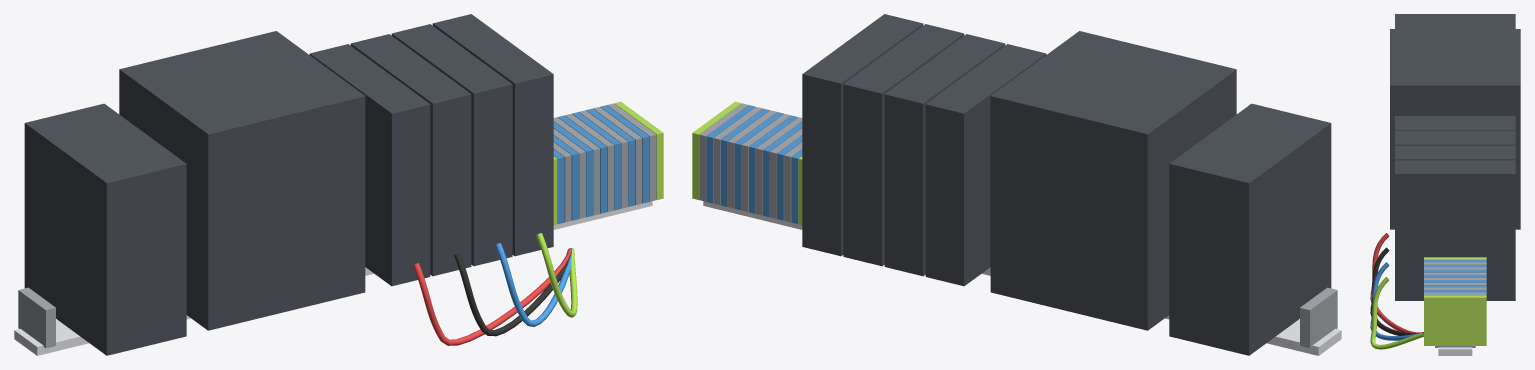
The model's file is plc_s71500f_hq.glb.
3 views of the same model, side by side, from view 1: azimuth 30°, elevation 25°; view 2: azimuth 150°, elevation 25°; view 3: azimuth 270°, elevation 25° (orthographic). The views are drawn at different scales.
Visible parts, largest first — view 1: CPU1518F_Processor_Body, PM1507_Power_Supply, F_DI_16_Input_Mod01, F_DI_16_Input_Mod02, F_DQ_8_Output_Mod02, F_DQ_8_Output_Mod01, DIN_End_Clamp_-0.26, DIN_Rail_Slotted_TH35, 24VDC_Power_Loop, 0V_GND_Power_Loop, DI16_Signal_Harness, PE_Earth_Ground_Braid (+15 smaller); view 2: CPU1518F_Processor_Body, PM1507_Power_Supply, F_DI_16_Input_Mod01, F_DI_16_Input_Mod02, F_DQ_8_Output_Mod02, F_DQ_8_Output_Mod01, DIN_End_Clamp_-0.26, DIN_Rail_Slotted_TH35, Phoenix_PT25_Block_14, Phoenix_PT25_Block_9, Phoenix_PT25_Block_10, Phoenix_PT25_Block_11 (+11 smaller); view 3: F_DQ_8_Output_Mod02, CPU1518F_Processor_Body, Phoenix_PT25_Block_16, F_DI_16_Input_Mod02, F_DQ_8_Output_Mod01, F_DI_16_Input_Mod01, PM1507_Power_Supply, PE_Earth_Ground_Braid, 24VDC_Power_Loop, 0V_GND_Power_Loop, DI16_Signal_Harness, DIN_Rail_Slotted_TH35 (+15 smaller).
Part boxes in pixels (box(x1,y1,x2,y2)): CPU1518F_Processor_Body: box(119, 31, 365, 330); PM1507_Power_Supply: box(24, 103, 186, 355); F_DI_16_Input_Mod01: box(309, 44, 430, 286); F_DI_16_Input_Mod02: box(350, 34, 471, 276); F_DQ_8_Output_Mod02: box(432, 14, 553, 256); F_DQ_8_Output_Mod01: box(391, 24, 512, 266); DIN_End_Clamp_-0.26: box(18, 287, 55, 348); DIN_Rail_Slotted_TH35: box(14, 201, 652, 355); 24VDC_Power_Loop: box(413, 248, 573, 345); 0V_GND_Power_Loop: box(454, 248, 571, 336); DI16_Signal_Harness: box(495, 243, 572, 326); PE_Earth_Ground_Braid: box(536, 233, 577, 317); CPU1518F_Processor_Body: box(990, 31, 1236, 330); PM1507_Power_Supply: box(1169, 103, 1331, 355); F_DI_16_Input_Mod01: box(925, 44, 1046, 286); F_DI_16_Input_Mod02: box(884, 34, 1005, 276); F_DQ_8_Output_Mod02: box(802, 14, 923, 256); F_DQ_8_Output_Mod01: box(843, 24, 964, 266); DIN_End_Clamp_-0.26: box(1300, 287, 1337, 348); DIN_Rail_Slotted_TH35: box(703, 201, 1341, 355); Phoenix_PT25_Block_14: box(706, 105, 755, 203); Phoenix_PT25_Block_9: box(741, 113, 790, 211); Phoenix_PT25_Block_10: box(734, 112, 783, 210); Phoenix_PT25_Block_11: box(727, 110, 776, 208); F_DQ_8_Output_Mod02: box(1395, 160, 1515, 300); CPU1518F_Processor_Body: box(1390, 29, 1520, 229); Phoenix_PT25_Block_16: box(1424, 295, 1486, 345); F_DI_16_Input_Mod02: box(1395, 130, 1515, 145); F_DQ_8_Output_Mod01: box(1395, 145, 1515, 160); F_DI_16_Input_Mod01: box(1395, 116, 1515, 130); PM1507_Power_Supply: box(1395, 14, 1515, 28); PE_Earth_Ground_Braid: box(1370, 277, 1423, 349); 24VDC_Power_Loop: box(1370, 233, 1422, 333); 0V_GND_Power_Loop: box(1370, 247, 1422, 335); DI16_Signal_Harness: box(1370, 262, 1422, 340); DIN_Rail_Slotted_TH35: box(1438, 347, 1472, 355).
Bounding box in the file's own units: 0.5409 × 0.2197 × 0.1553.
